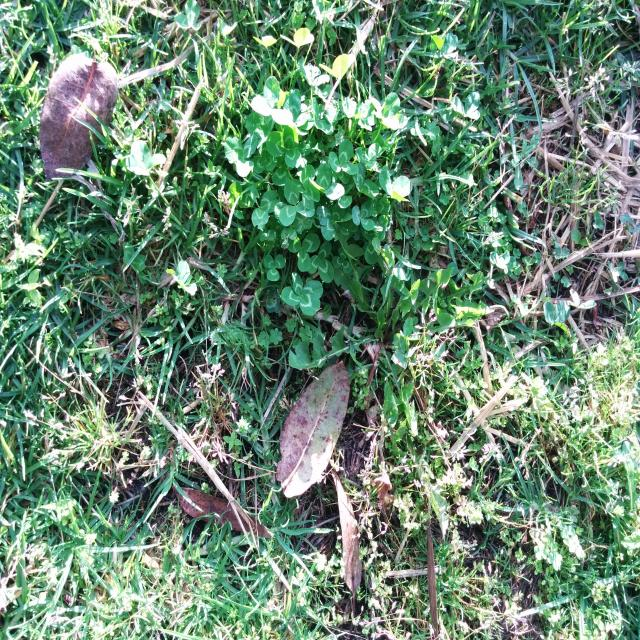Four Leaf Clover: (281, 271, 323, 316)
